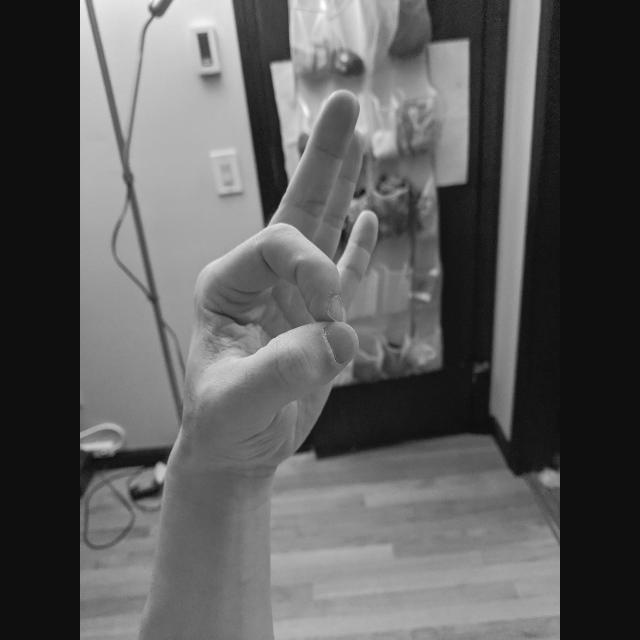F: (172, 86, 386, 487)
